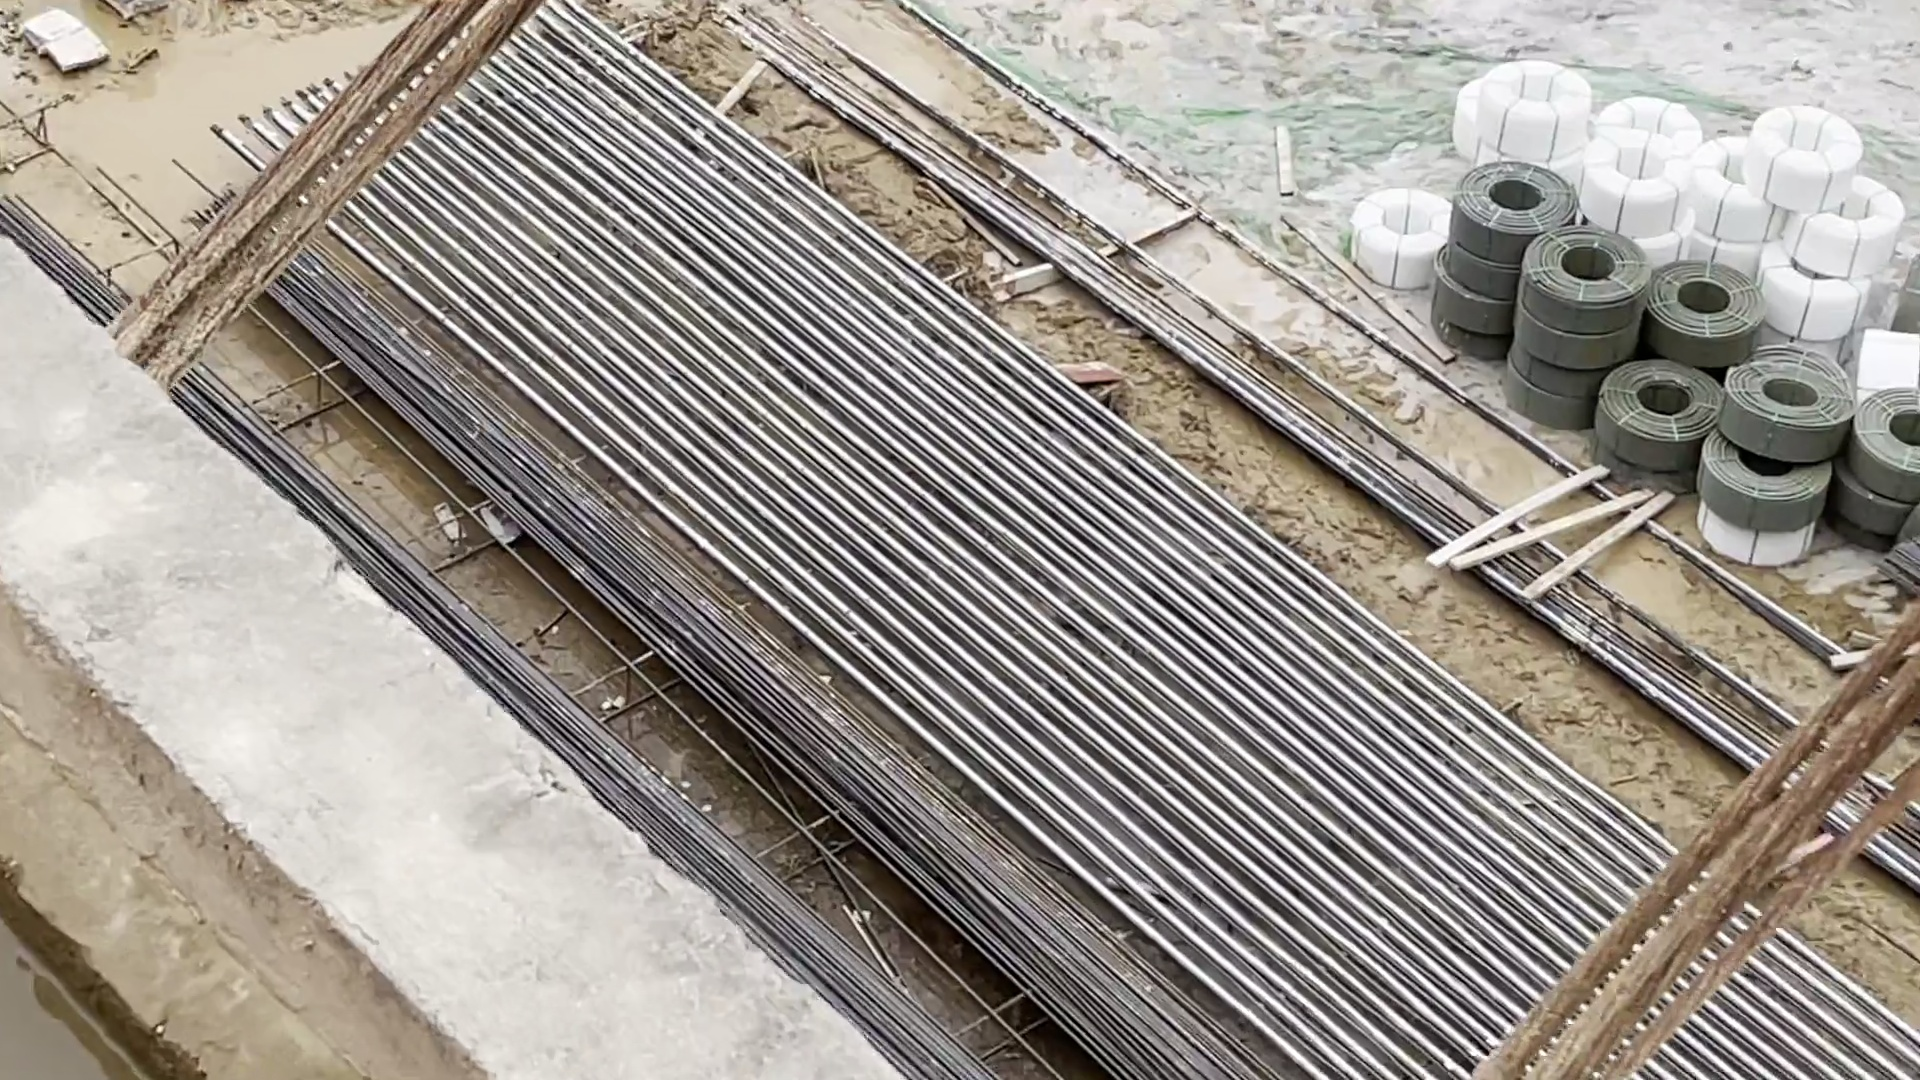rebar: (15, 164, 629, 733), (637, 617, 1174, 1063)
